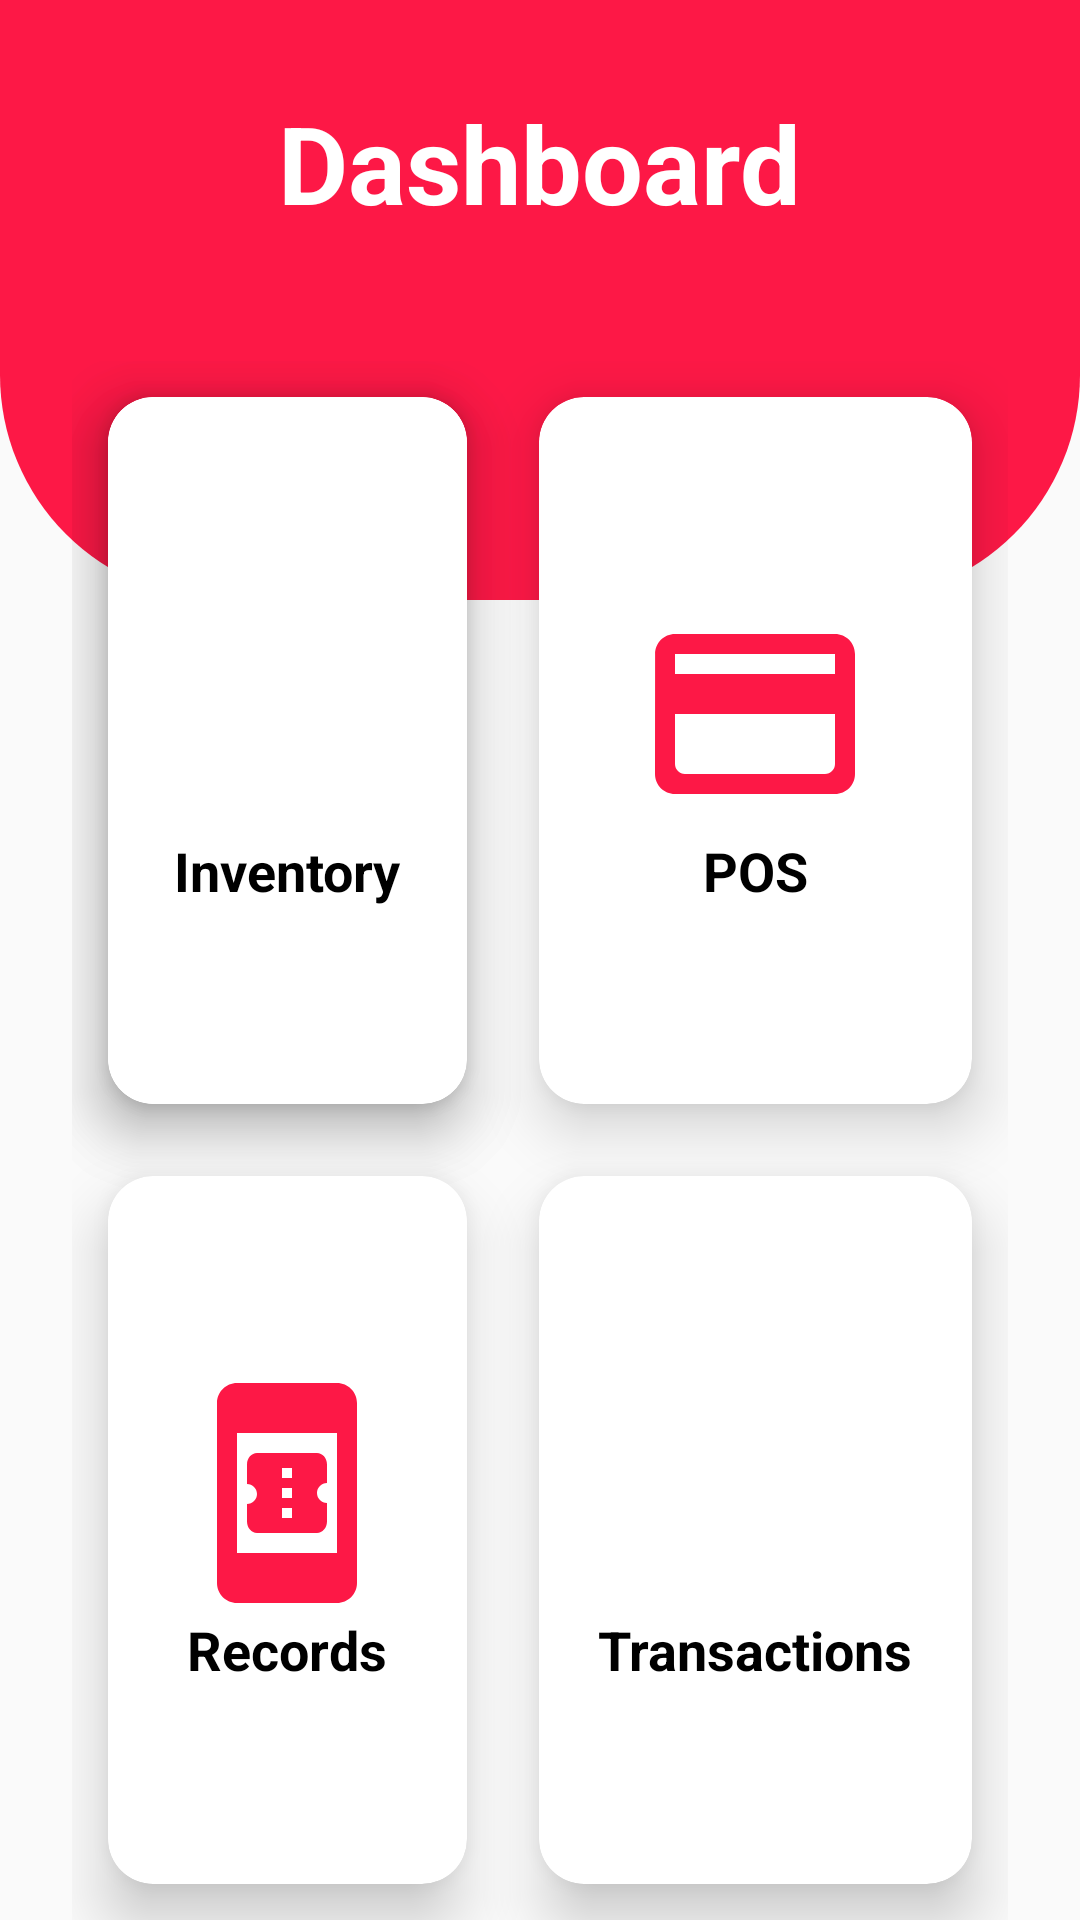

Icon bounding boxes for this 1080 × 1920 phone screenshot, format (x1, y1, x2, y2):
book online: (217, 1383, 357, 1603)
credit: (655, 634, 855, 794)
